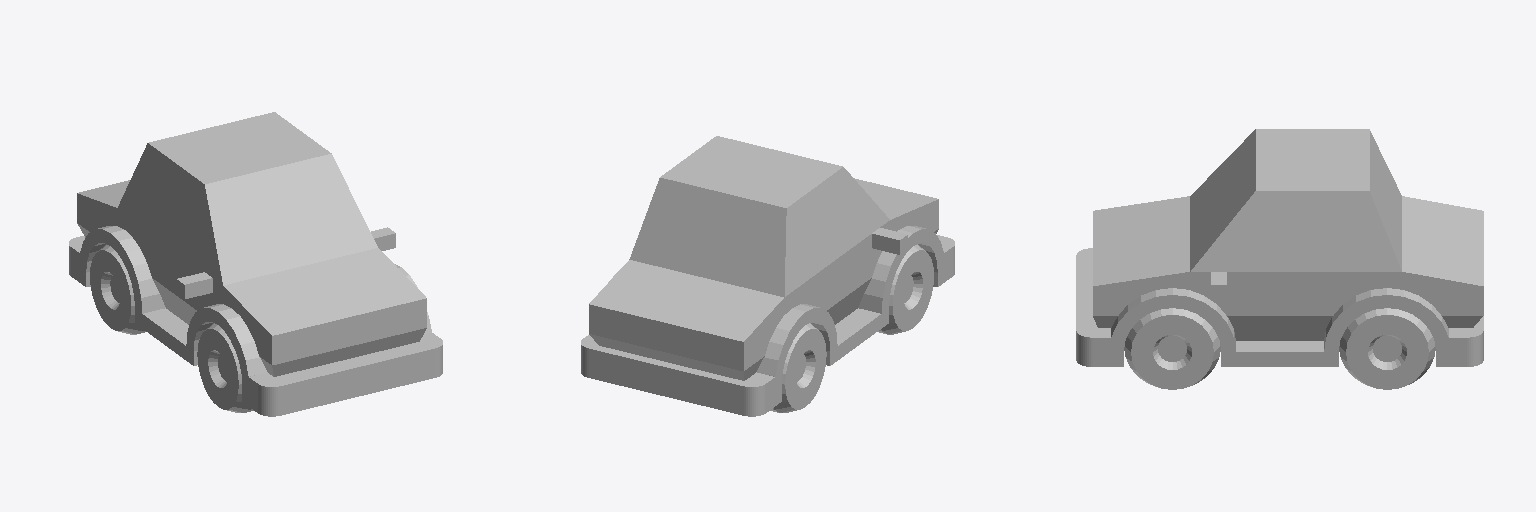
File: sedan.obj
The picture shows the model from 3 angles: view 1: azimuth 30°, elevation 25°; view 2: azimuth 150°, elevation 25°; view 3: azimuth 270°, elevation 25°; orthographic projection.
Parts seen in each view (by area): view 1: body, wheel_backRight, wheel_frontRight; view 2: body, wheel_frontRight, wheel_backRight; view 3: body, wheel_backLeft, wheel_frontLeft.
Boxes of the visible parts, box(x1,y1,x2,y2) form: body: box(69, 112, 442, 416); wheel_backRight: box(90, 244, 145, 334); wheel_frontRight: box(197, 323, 253, 412); body: box(581, 136, 954, 416); wheel_frontRight: box(878, 244, 933, 334); wheel_backRight: box(770, 323, 826, 412); body: box(1076, 129, 1483, 366); wheel_backLeft: box(1339, 308, 1435, 389); wheel_frontLeft: box(1124, 308, 1220, 389).
Size of the model in its own units: 1.12 by 0.975 by 1.88.